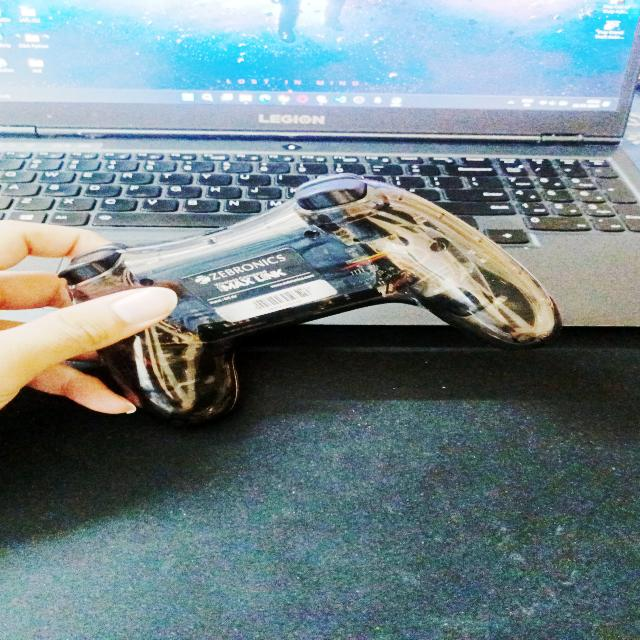gamepad: (54, 174, 562, 426)
